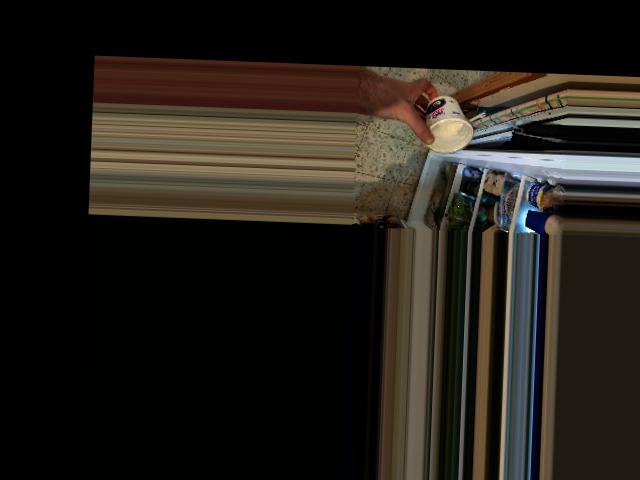cotage: (421, 94, 471, 148)
